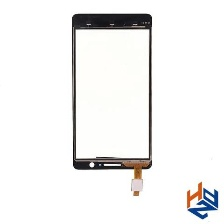phone: (69, 11, 157, 173)
